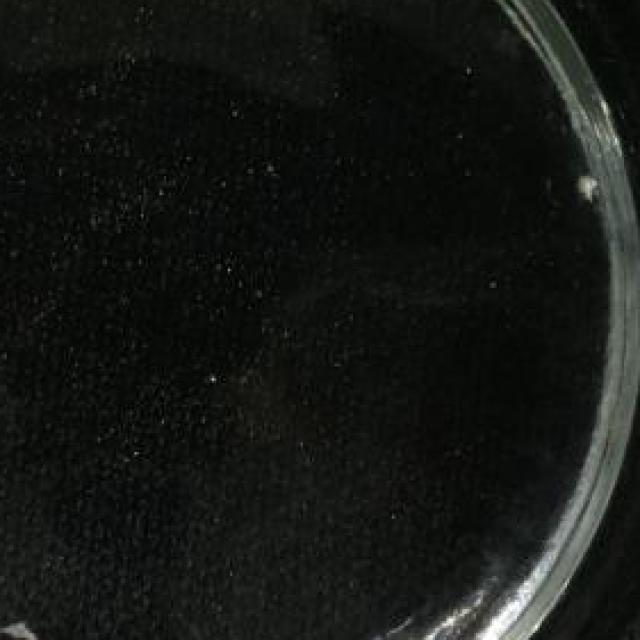Microplastic: (0, 609, 57, 640)
